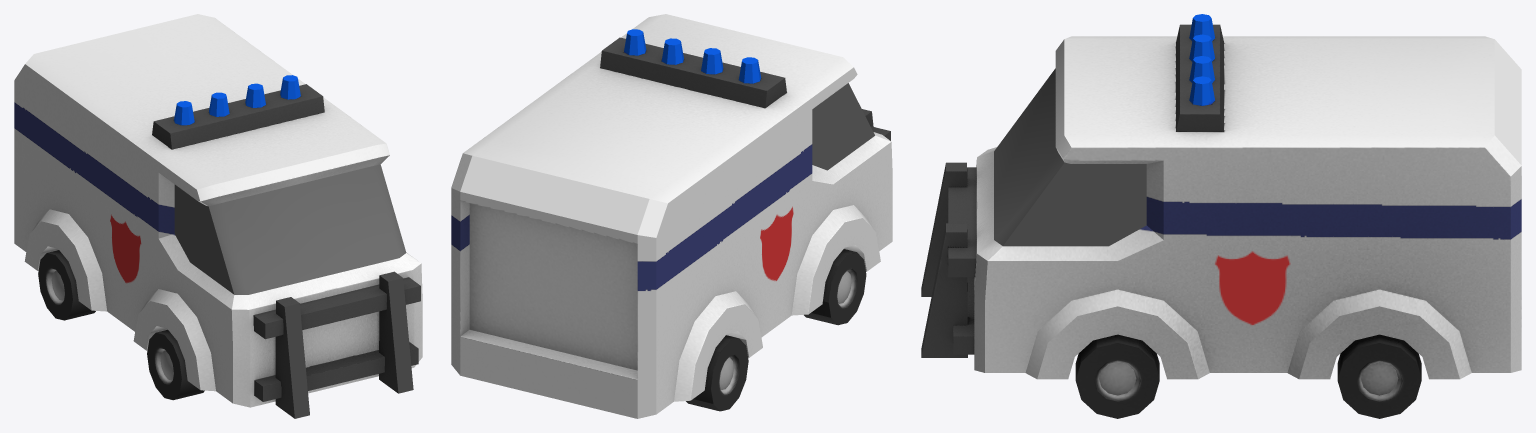
The model's file is camion.fbx.
The picture shows the model from 3 angles, left to right: view 1: azimuth 30°, elevation 25°; view 2: azimuth 150°, elevation 25°; view 3: azimuth 270°, elevation 25°; orthographic projection. The views are drawn at different scales.
Parts seen in each view (by area): view 1: camion; view 2: camion; view 3: camion.
Part boxes in pixels (box(x1,y1,x2,y2)): camion: box(14, 14, 422, 418); camion: box(451, 14, 892, 418); camion: box(921, 14, 1521, 418).
Bounding box in the file's own units: 205 × 231 × 411.
